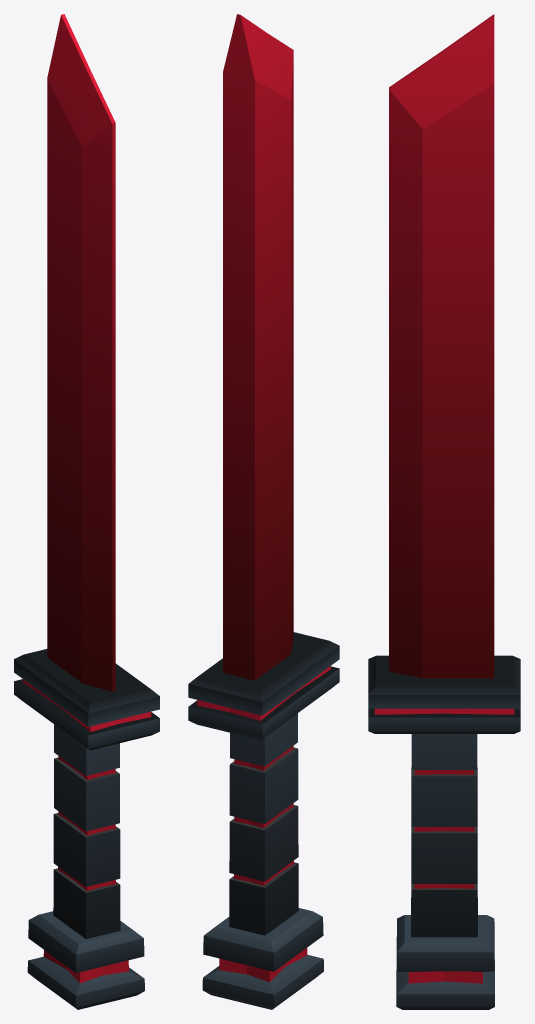
The model's file is Sword_Red.fbx.
3 views of the same model, side by side, from view 1: azimuth 30°, elevation 25°; view 2: azimuth 150°, elevation 25°; view 3: azimuth 270°, elevation 25° (orthographic). The views are drawn at different scales.
Visible parts, largest first — view 1: Merged_PM3D_Cube3D2; view 2: Merged_PM3D_Cube3D2; view 3: Merged_PM3D_Cube3D2.
Boxes of the visible parts, box(x1,y1,x2,y2) form: Merged_PM3D_Cube3D2: box(14, 14, 159, 1009); Merged_PM3D_Cube3D2: box(188, 14, 339, 1009); Merged_PM3D_Cube3D2: box(368, 14, 520, 1009).
Size of the model in its own units: 0.0994 by 1.27 by 0.1789.
